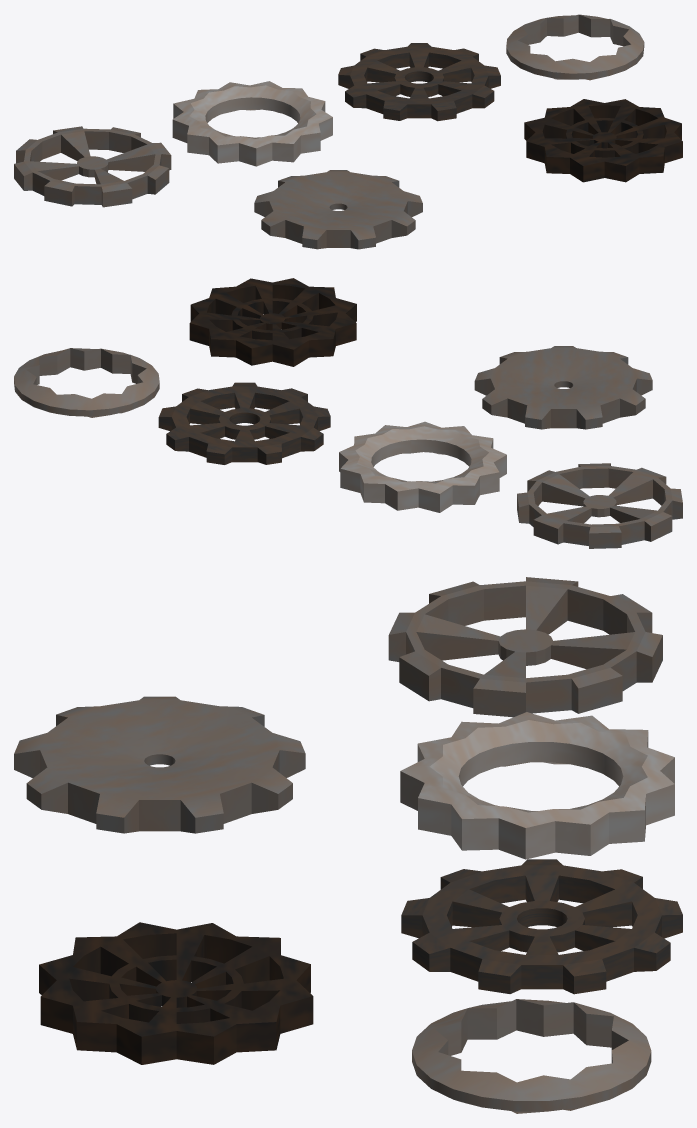
File: gears .fbx
3 views of the same model, one above another, from view 1: azimuth 30°, elevation 25°; view 2: azimuth 150°, elevation 25°; view 3: azimuth 270°, elevation 25° (orthographic). The views are drawn at different scales.
Parts seen in each view (by area): view 1: gear_5_msh, gear_6_msh, gear_1_msh, gear_4_msh, gear_2_msh, gear_3_msh; view 2: gear_5_msh, gear_6_msh, gear_1_msh, gear_4_msh, gear_2_msh, gear_3_msh; view 3: gear_5_msh, gear_6_msh, gear_1_msh, gear_4_msh, gear_2_msh, gear_3_msh.
Boxes of the visible parts, left/top/right/bottom form: gear_5_msh: left=524, top=99, right=682, bottom=182; gear_6_msh: left=254, top=170, right=422, bottom=249; gear_1_msh: left=338, top=43, right=500, bottom=121; gear_4_msh: left=14, top=126, right=171, bottom=207; gear_2_msh: left=172, top=81, right=332, bottom=166; gear_3_msh: left=506, top=14, right=644, bottom=80; gear_5_msh: left=189, top=278, right=356, bottom=366; gear_6_msh: left=474, top=346, right=652, bottom=429; gear_1_msh: left=158, top=382, right=330, bottom=464; gear_4_msh: left=517, top=463, right=682, bottom=548; gear_2_msh: left=339, top=421, right=506, bottom=512; gear_3_msh: left=14, top=348, right=159, bottom=417; gear_5_msh: left=39, top=922, right=313, bottom=1064; gear_6_msh: left=14, top=696, right=305, bottom=833; gear_1_msh: left=401, top=859, right=682, bottom=994; gear_4_msh: left=388, top=577, right=662, bottom=717; gear_2_msh: left=400, top=712, right=674, bottom=859; gear_3_msh: left=412, top=999, right=651, bottom=1113.
Size of the model in its own units: 1020 by 36.79 by 558.
